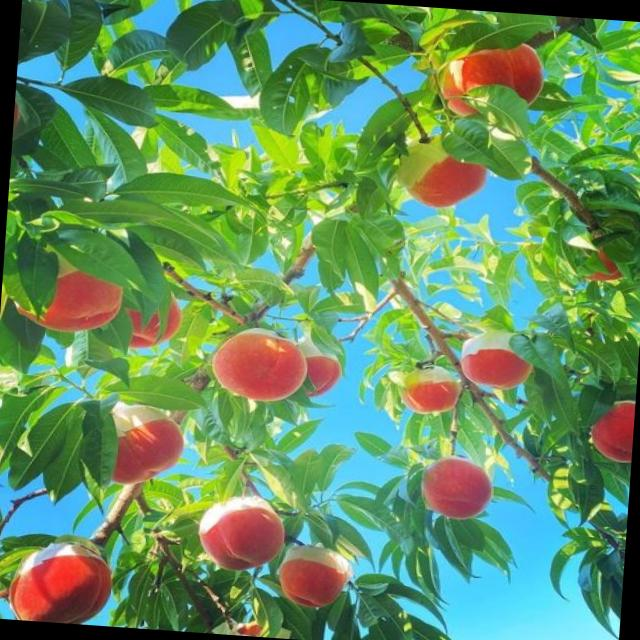Tao: (0, 222, 129, 339), (68, 400, 202, 496), (430, 24, 548, 121), (190, 483, 296, 584), (13, 536, 116, 622), (270, 532, 376, 615), (210, 324, 309, 402), (391, 131, 484, 209), (104, 270, 177, 356), (572, 388, 636, 472), (456, 328, 534, 393), (418, 452, 494, 518), (385, 360, 457, 420), (286, 339, 352, 404), (576, 243, 625, 284)
